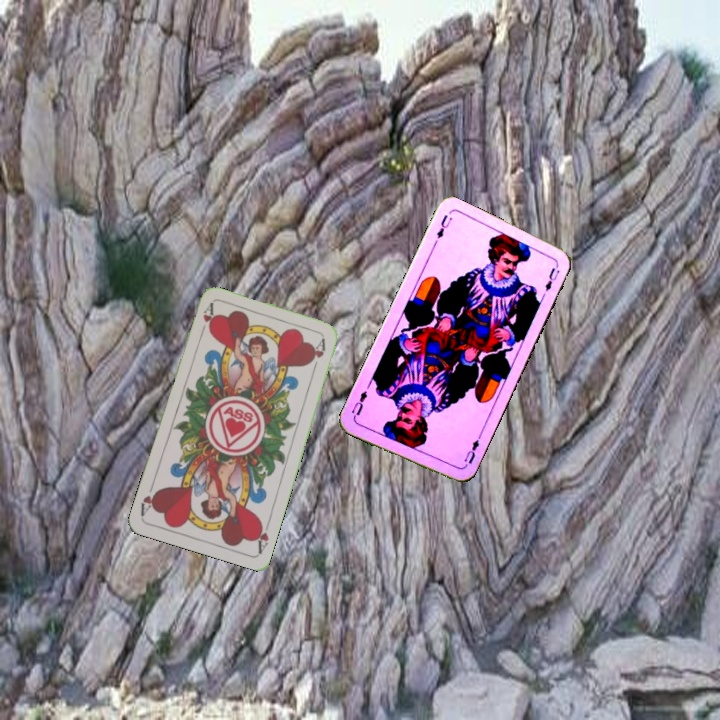EU: (460, 433, 483, 467), (432, 210, 455, 242)
HA: (251, 515, 273, 555), (196, 300, 216, 340)
